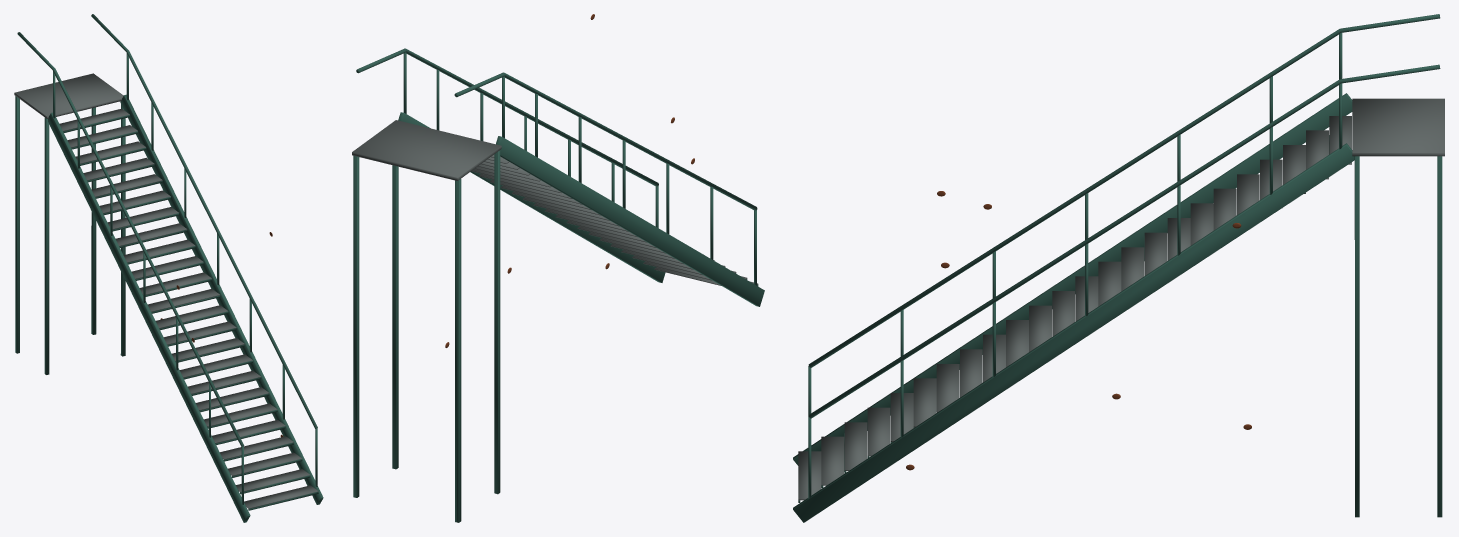
File: cau_thang_390_537_110.glb
The picture shows the model from 3 angles, left to right: view 1: azimuth 30°, elevation 25°; view 2: azimuth 150°, elevation 25°; view 3: azimuth 270°, elevation 25°; orthographic projection. The views are drawn at different scales.
Parts seen in each view (by area): view 1: cau_thang_390_537_110; view 2: cau_thang_390_537_110; view 3: cau_thang_390_537_110.
Boxes of the visible parts, x1,y1,x2,y2 form: cau_thang_390_537_110: (14,14,323,522); cau_thang_390_537_110: (352,14,764,522); cau_thang_390_537_110: (793,14,1444,522).
Bounding box in the file's own units: 1.25 × 4.89 × 6.32.
